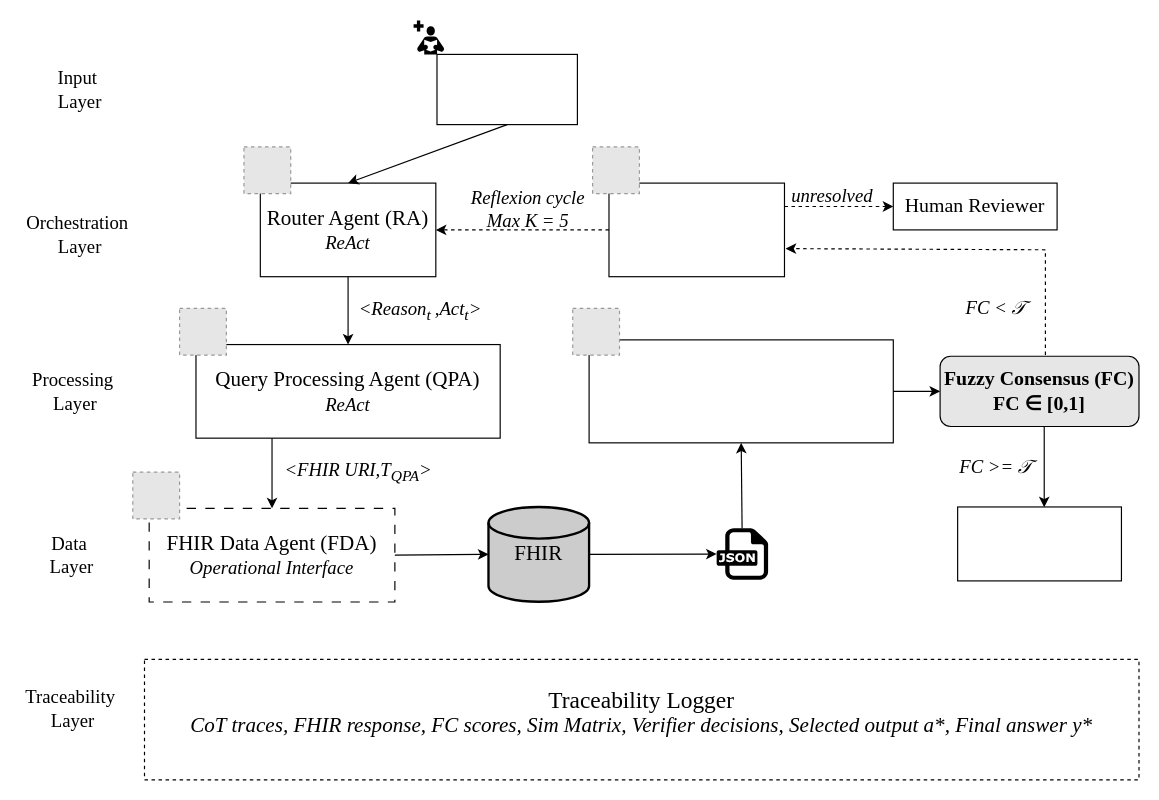
Image size: 1159x800. Some labels were removed from this diagram. Grey dashed boxes stand in for pictures. Each missing label, with the box of its shape:
Clinical Question: (436, 53, 577, 125)
Data Interpretation Agent (DIA) ReAct Sampling (N = 5) Candidate Answers (M = 3): (588, 339, 893, 443)
Output y* selected from a*: (956, 506, 1121, 581)
Verifier Agent (VA) LLM-as-judge: (608, 182, 784, 277)
